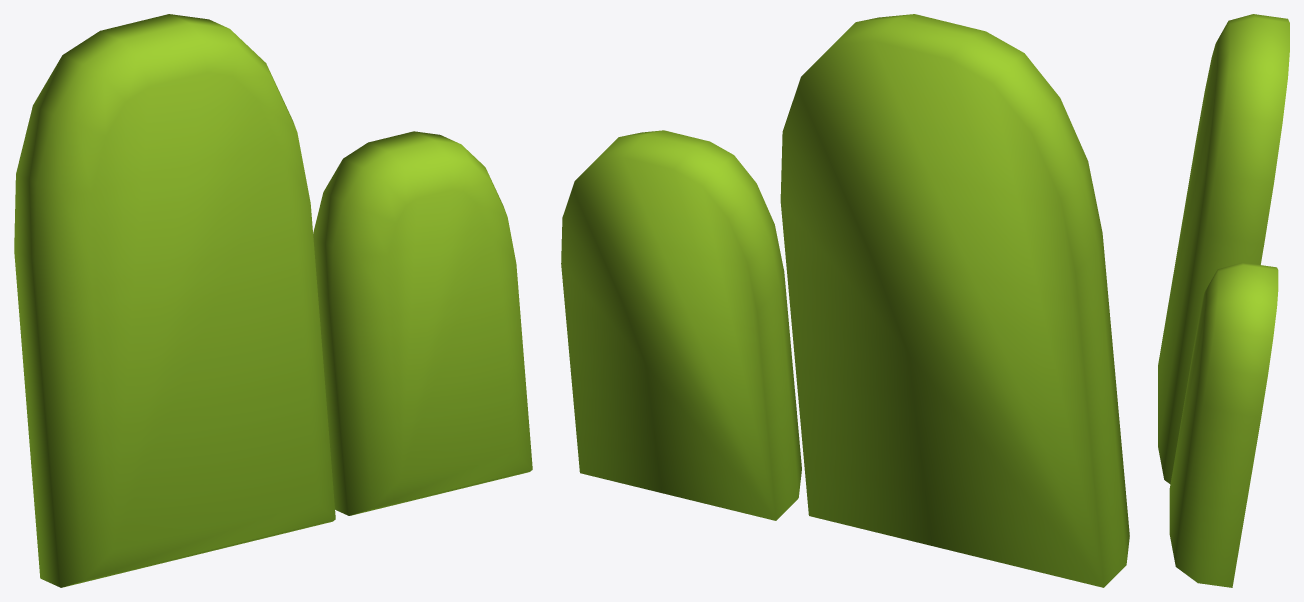
Rendered from Grass2.fbx.
3 renders of one model, left to right at view 1: azimuth 30°, elevation 25°; view 2: azimuth 150°, elevation 25°; view 3: azimuth 270°, elevation 25°, orthographic. The views are drawn at different scales.
Visible parts, largest first — view 1: Plane.002; view 2: Plane.002; view 3: Plane.002.
Part boxes in pixels (bbox=[...]): Plane.002: bbox=[14, 14, 532, 587]; Plane.002: bbox=[561, 14, 1129, 587]; Plane.002: bbox=[1158, 14, 1289, 587].
Bounding box in the file's own units: 0.9944 × 1.01 × 0.2876.
